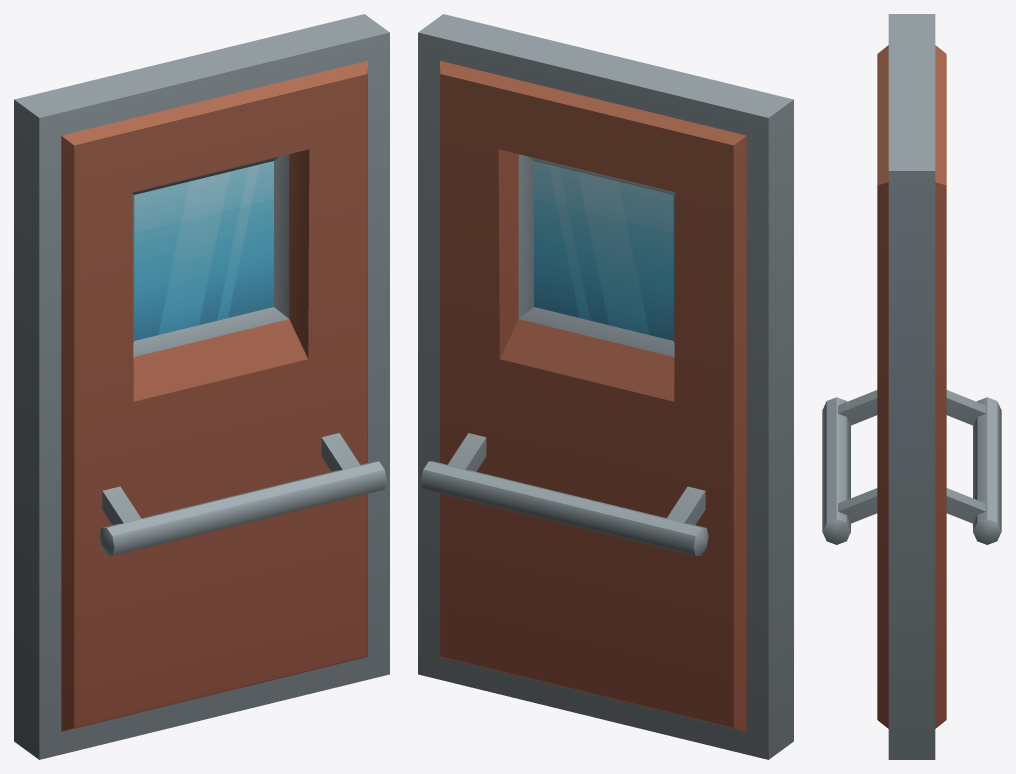
File: door_B.obj
3 renders of one model, left to right at view 1: azimuth 30°, elevation 25°; view 2: azimuth 150°, elevation 25°; view 3: azimuth 270°, elevation 25°, orthographic. The views are drawn at different scales.
Visible parts, largest first — view 1: door_B_Cube.261; view 2: door_B_Cube.261; view 3: door_B_Cube.261.
Boxes of the visible parts, x1,y1,x2,y2 form: door_B_Cube.261: (14,14,389,759); door_B_Cube.261: (418,14,793,759); door_B_Cube.261: (822,14,1001,759).
Size of the model in its own units: 1.6 by 2.8 by 0.7714.
Materials: 1 (1 with a texture image).
